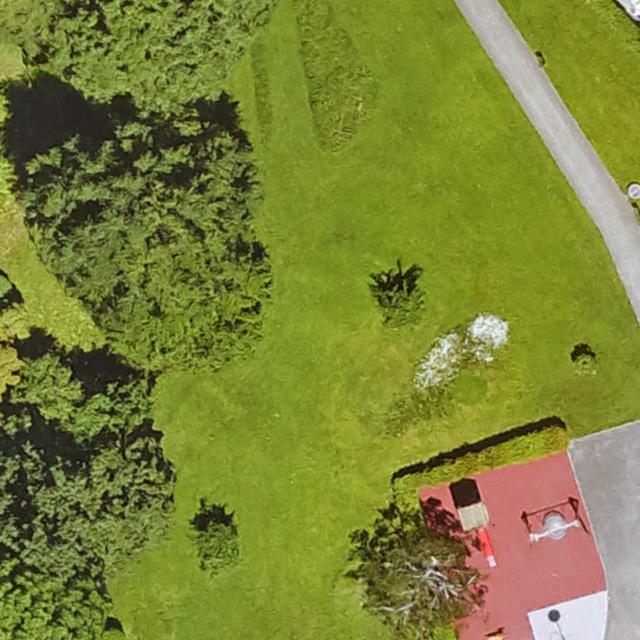tree: (28, 126, 258, 360), (38, 0, 266, 105), (358, 512, 479, 631), (41, 445, 172, 554), (0, 569, 96, 640), (16, 354, 86, 420), (192, 523, 240, 571), (383, 286, 423, 328), (576, 356, 597, 374)
